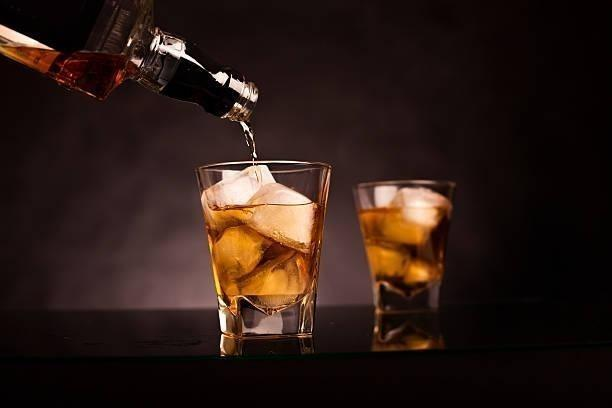bottle-glass: (0, 0, 261, 131)
glass-normal: (193, 158, 333, 355), (352, 176, 458, 347)
